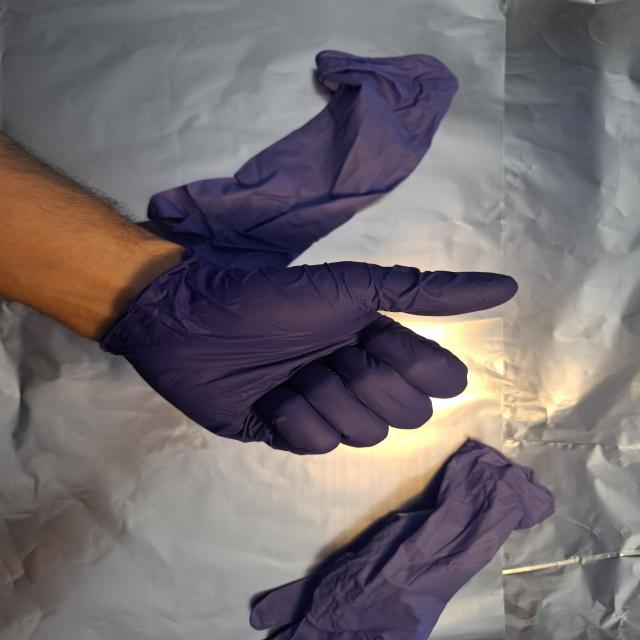glove_on: (97, 248, 522, 458)
